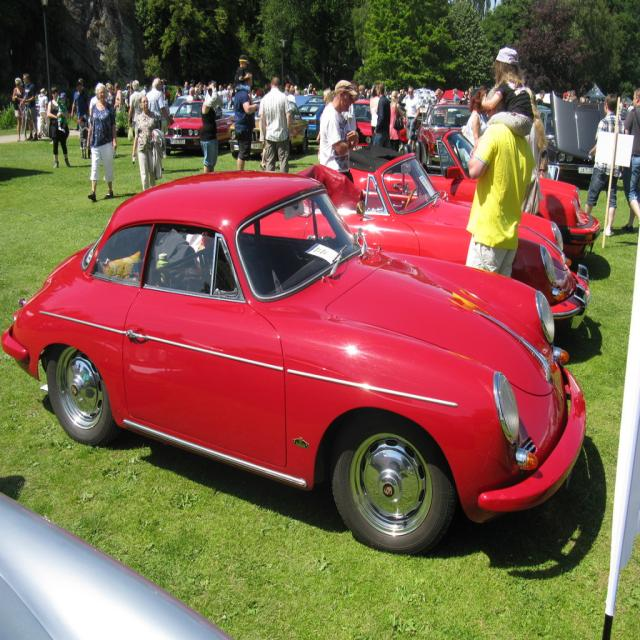car: (0, 168, 587, 554)
